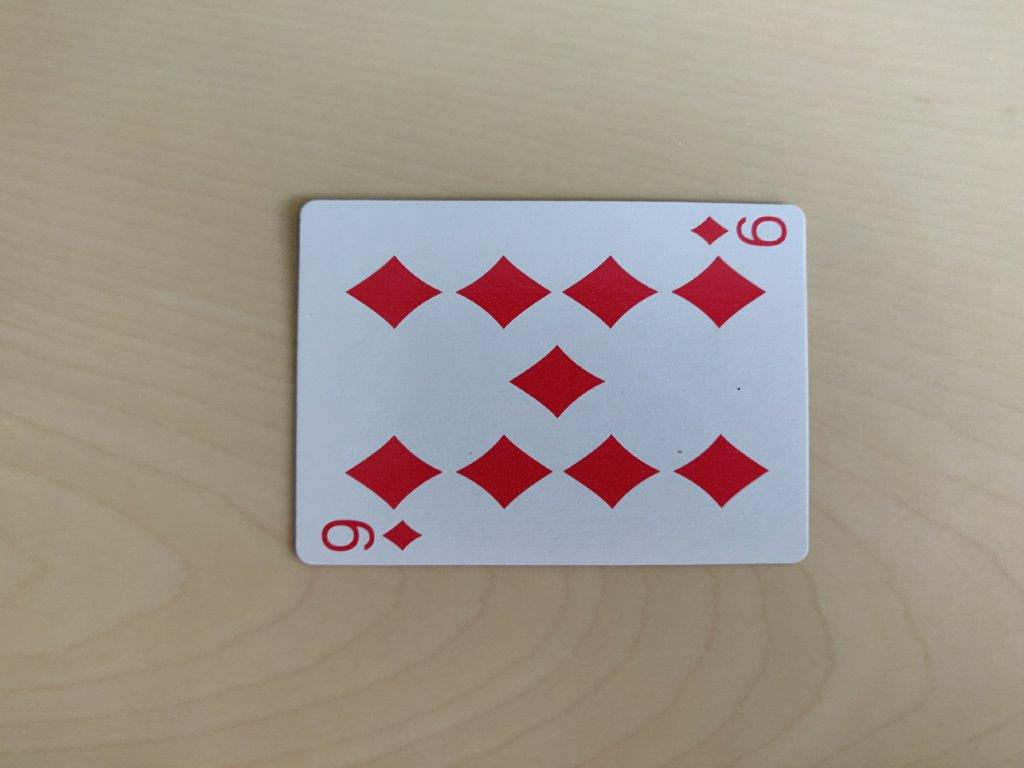9D: (300, 199, 812, 564)
